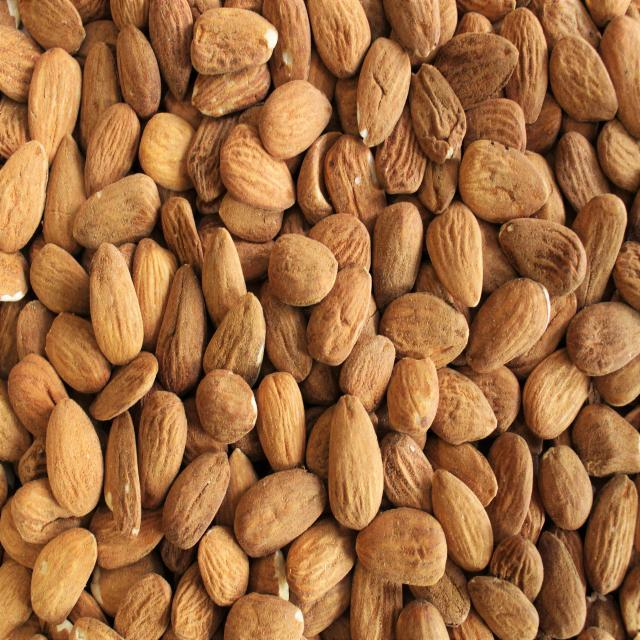Frutta secca: (5, 9, 637, 636)
